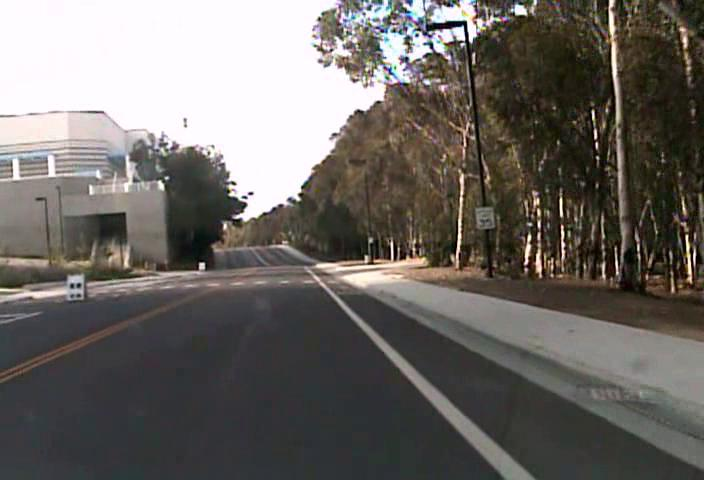speedLimit35: (474, 205, 496, 230)
